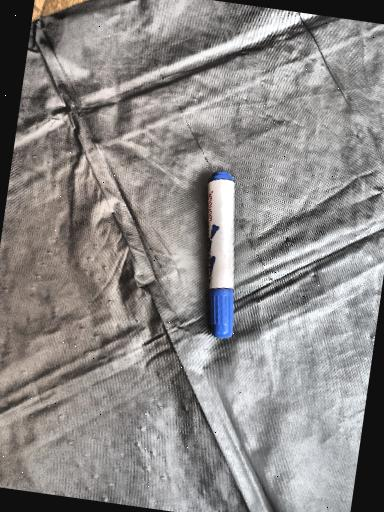marcador azul: (207, 172, 234, 338)
